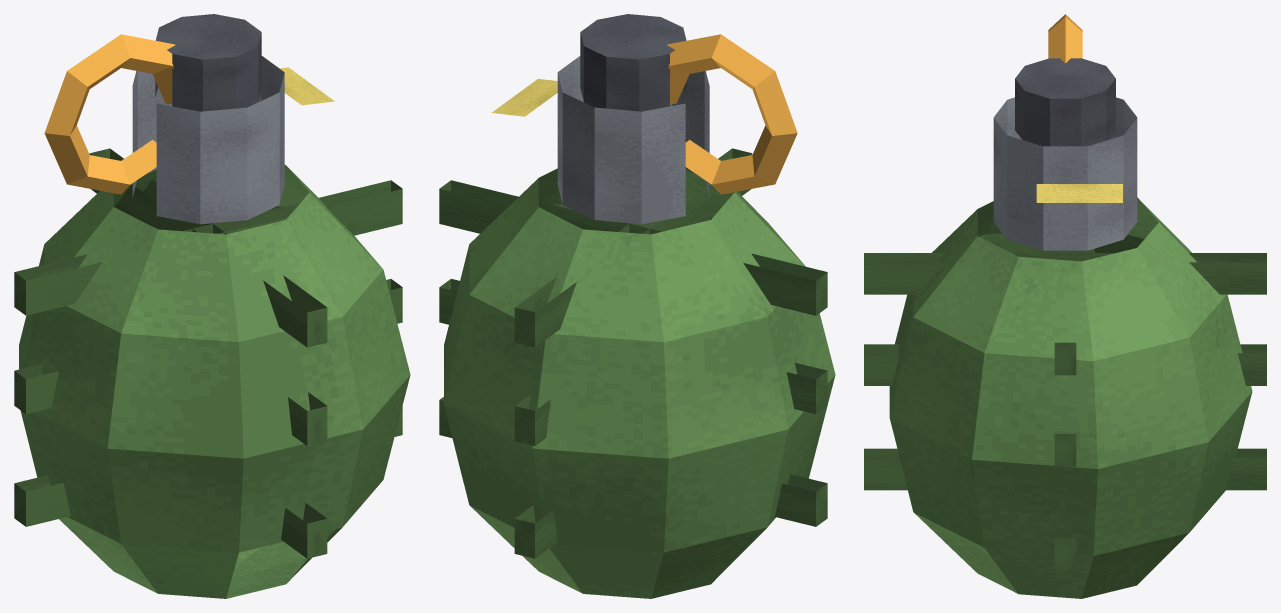
The model's file is weapon_grenade.glb.
3 views of the same model, side by side, from view 1: azimuth 30°, elevation 25°; view 2: azimuth 150°, elevation 25°; view 3: azimuth 270°, elevation 25° (orthographic). The views are drawn at different scales.
Parts seen in each view (by area): view 1: weapon_grenade; view 2: weapon_grenade; view 3: weapon_grenade.
Part boxes in pixels (<box>): weapon_grenade: <box>14,14,410,598</box>; weapon_grenade: <box>439,14,835,598</box>; weapon_grenade: <box>864,14,1266,598</box>.
Size of the model in its own units: 0.56 by 0.813 by 0.56.
Materials: 1 (1 with a texture image).
